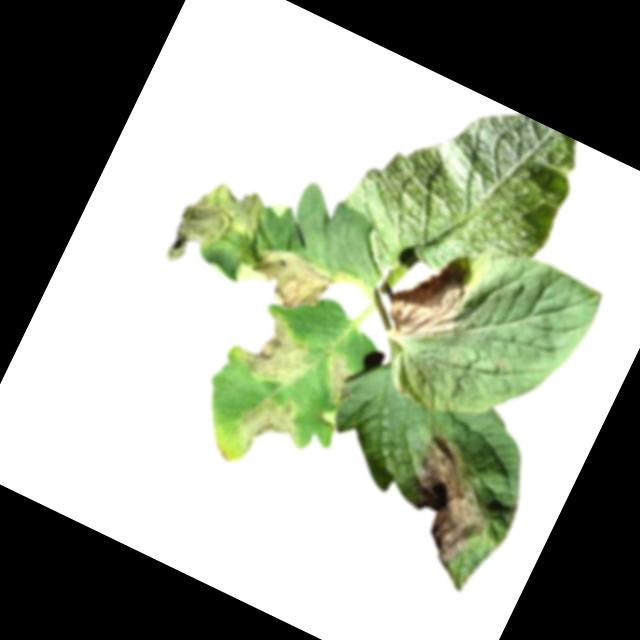Late_blight: (378, 426, 515, 577), (160, 166, 272, 289), (377, 242, 488, 362), (230, 229, 346, 326), (223, 301, 330, 400), (227, 384, 320, 476), (313, 350, 368, 409)
healthy: (336, 61, 597, 309)
